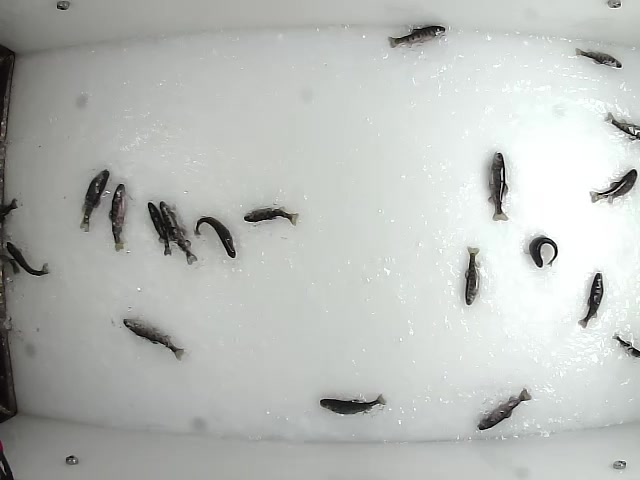fish: (120, 315, 187, 361), (74, 164, 114, 235), (158, 200, 198, 266), (476, 386, 534, 431), (193, 214, 237, 260), (485, 149, 512, 222), (588, 167, 639, 205), (2, 238, 51, 277), (384, 22, 449, 50), (317, 391, 387, 417), (575, 270, 604, 331), (145, 199, 175, 256), (106, 182, 128, 254), (462, 246, 485, 309), (241, 204, 303, 227), (527, 234, 559, 269), (574, 48, 624, 70)
